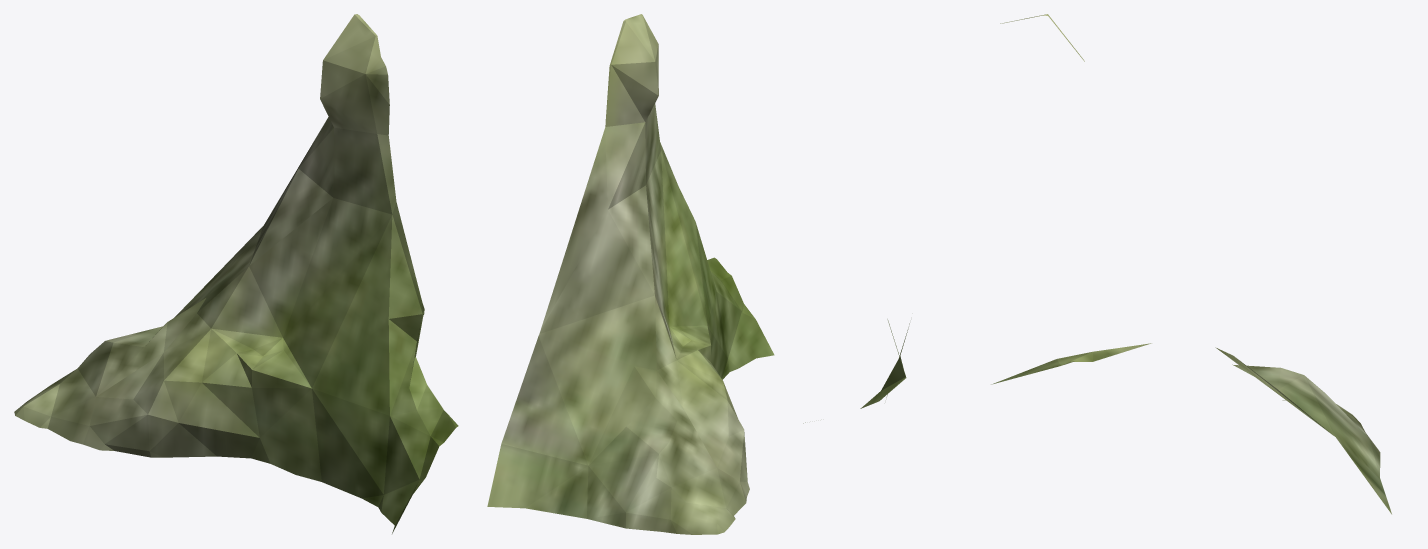
3 views of the same model, side by side, from view 1: azimuth 30°, elevation 25°; view 2: azimuth 150°, elevation 25°; view 3: azimuth 270°, elevation 25° (orthographic). The views are drawn at different scales.
Bounding box in the file's own units: 1.05 × 1.9 × 2.03.
1 material, 1 textured.
